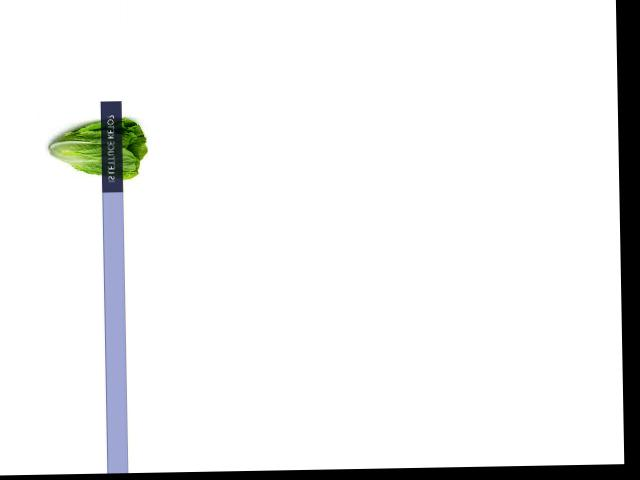lettuce: (39, 112, 147, 183)
